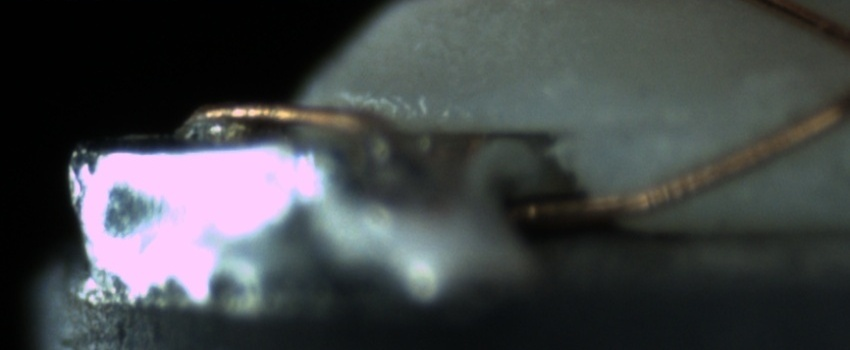DL: (579, 99, 733, 156)
TE: (161, 99, 388, 162)
